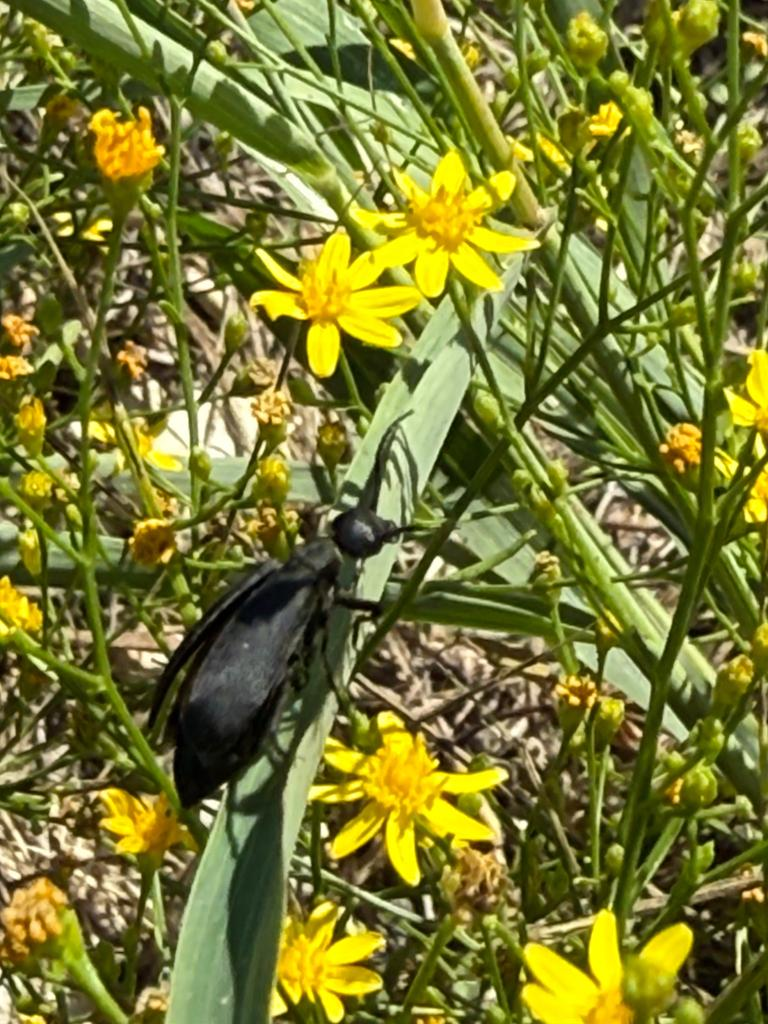blister_beetle: (111, 406, 475, 832)
